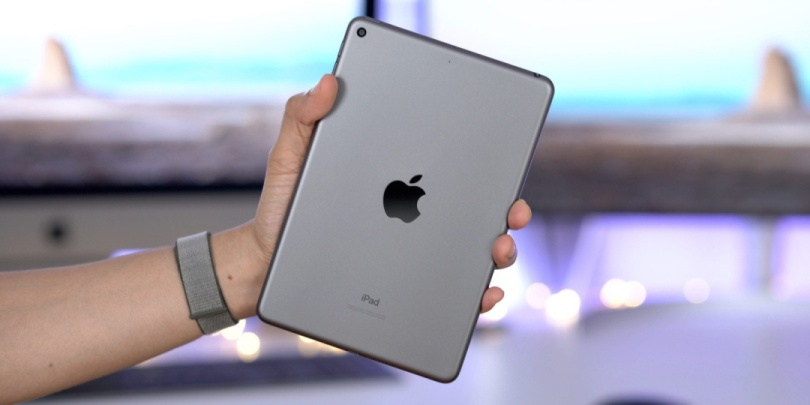apple: (370, 167, 449, 240)
